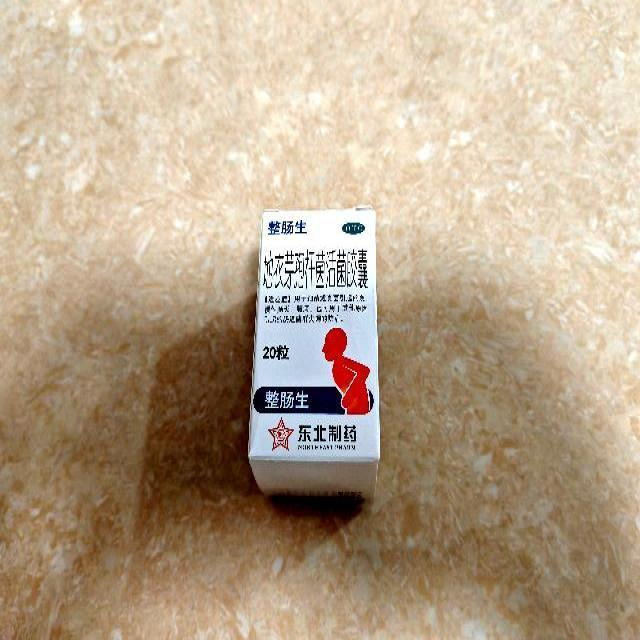box: (248, 208, 382, 502)
